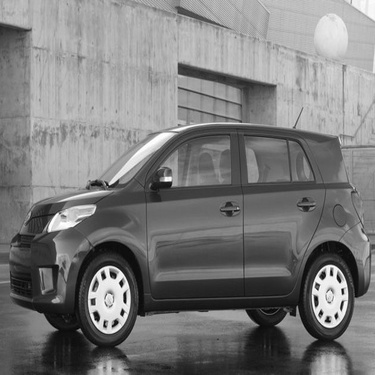car: (3, 118, 372, 346)
